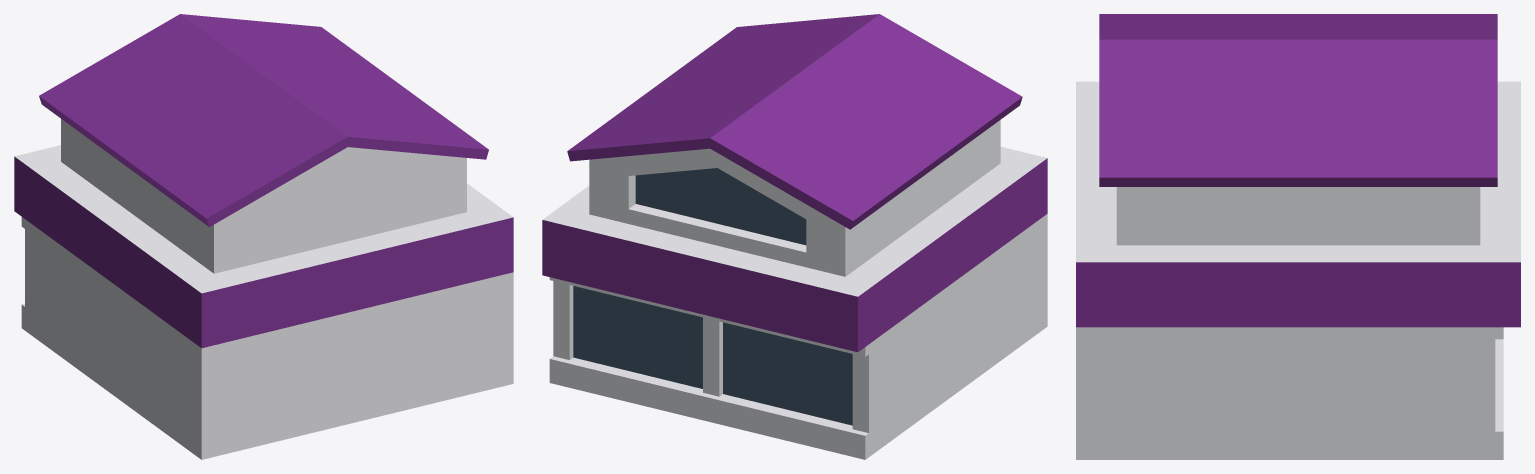
Rendered from garage-office-roof.glb.
The picture shows the model from 3 angles, left to right: view 1: azimuth 30°, elevation 25°; view 2: azimuth 150°, elevation 25°; view 3: azimuth 270°, elevation 25°; orthographic projection. The views are drawn at different scales.
Parts seen in each view (by area): view 1: pitsOfficeRoof; view 2: pitsOfficeRoof; view 3: pitsOfficeRoof.
Boxes of the visible parts, x1,y1,x2,y2 form: pitsOfficeRoof: (14, 14, 513, 459); pitsOfficeRoof: (542, 14, 1047, 459); pitsOfficeRoof: (1076, 14, 1520, 459).
Size of the model in its own units: 1 by 0.8515 by 1.04.
